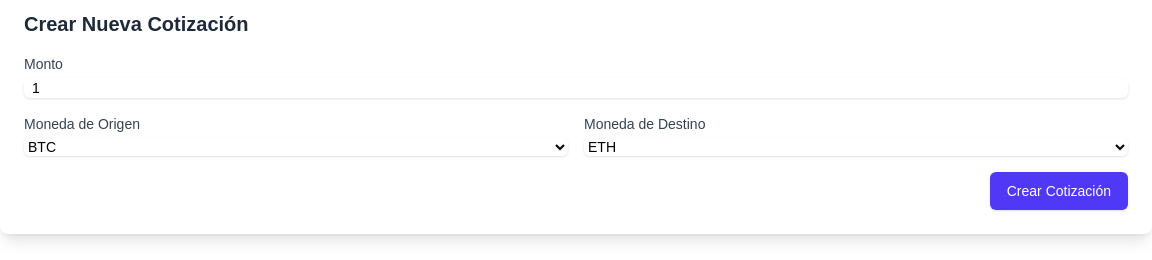
Test: CreateQuoteForm › should reset form after successful submission
Replace the text in the number field labelled "Monto" with "5": (576, 88) left=24, top=78, right=1128, bottom=98
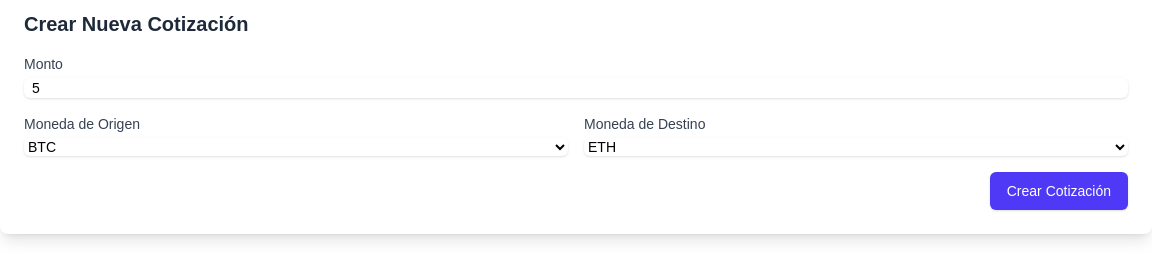
Click the button "Crear Cotización": (1059, 191) left=990, top=172, right=1128, bottom=210
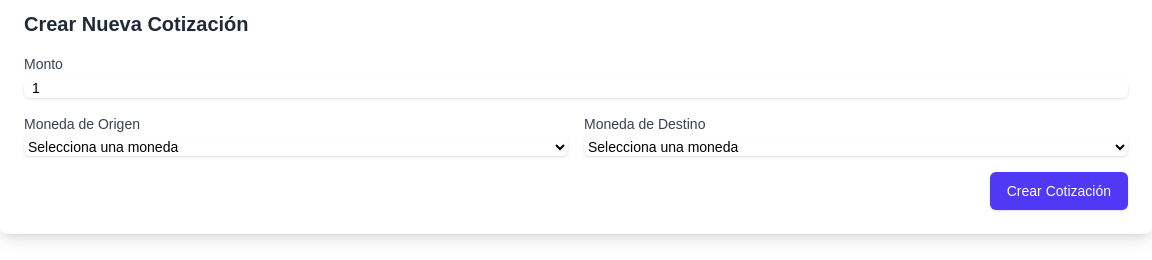
Expected: the number field labelled "Monto" holds "1", left=24, top=78, right=1128, bottom=98
Expected: the dropdown labelled "Moneda de Origen" shows "Selecciona una moneda", left=24, top=138, right=568, bottom=156
Expected: the dropdown labelled "Moneda de Destino" shows "Selecciona una moneda", left=584, top=138, right=1128, bottom=156
